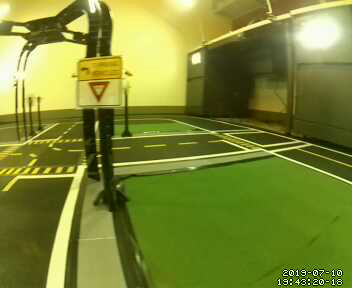Turn Yield: (75, 53, 121, 109)
